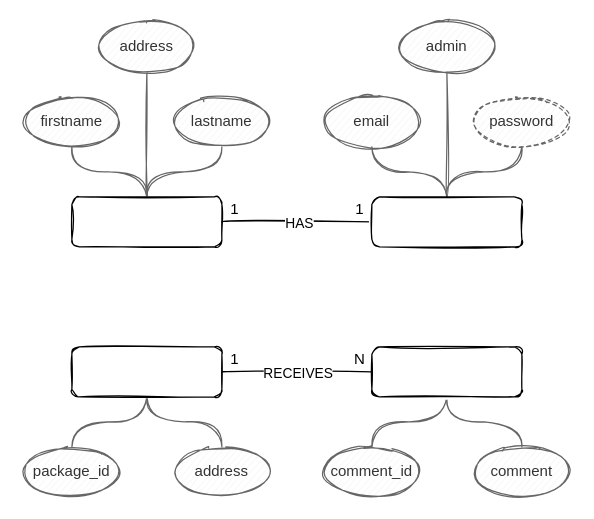
This 594x519 diagram has some shape labels left out. Here are the shapes that lost their labels. From the top down, the centre of each, then its label:
At pixel 146 221: "User".
At pixel 446 221: "Login Details".
At pixel 146 371: "Package".
At pixel 446 371: "Update".
